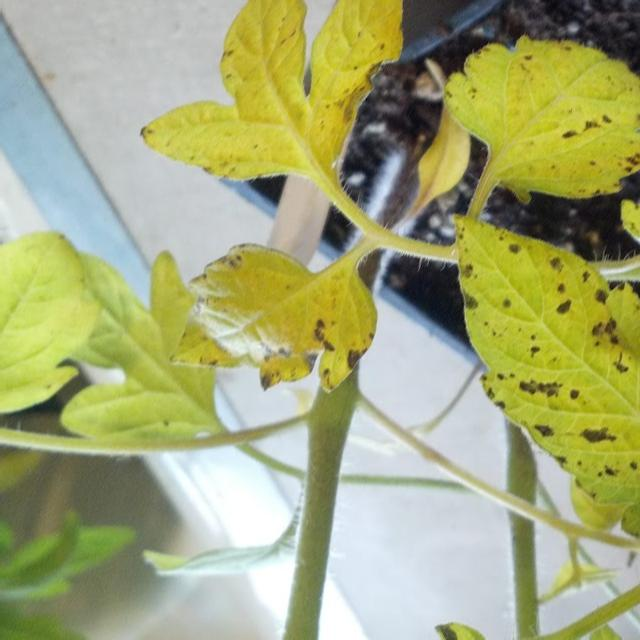Tomato Septoria leaf spot: (436, 195, 640, 551), (436, 33, 640, 222), (269, 610, 507, 640)
